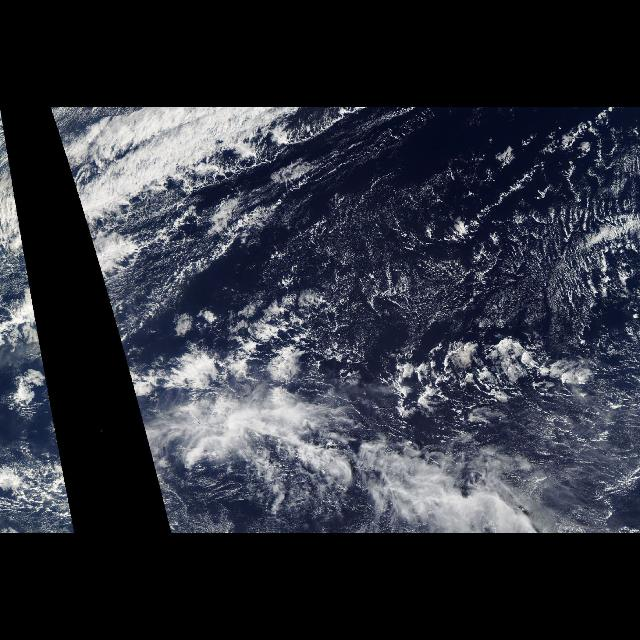Sugar: (305, 219, 635, 533)
